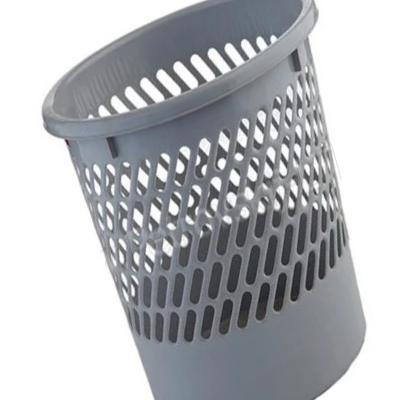Bote de Basura: (38, 0, 364, 399)
